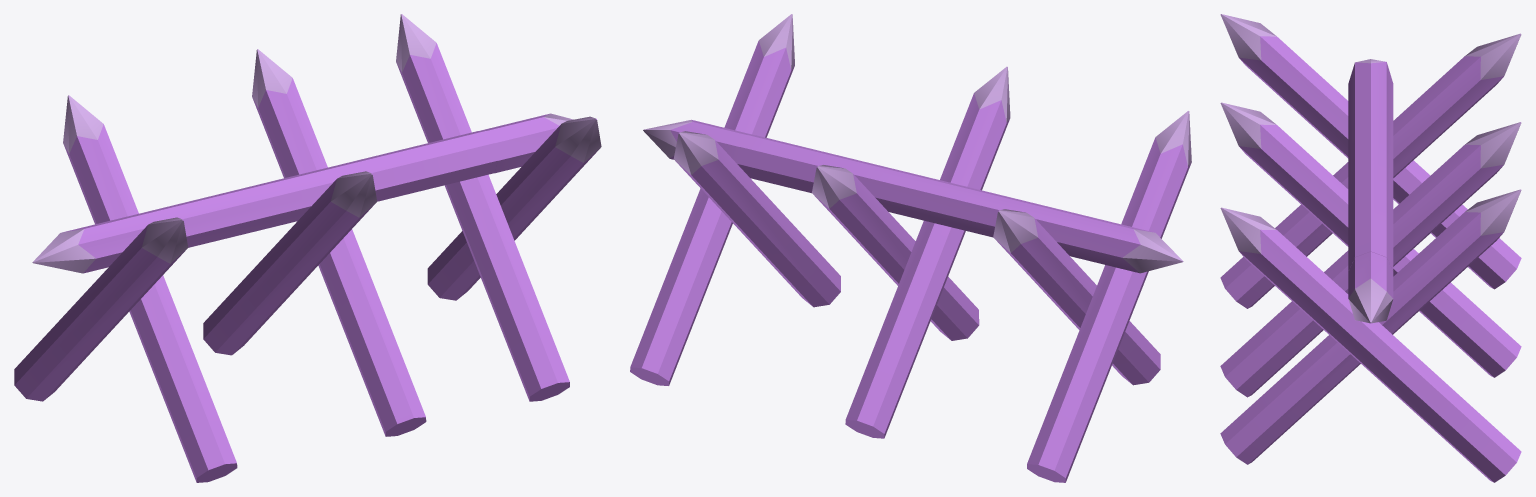
File: stake_3x3.fbx
3 renders of one model, left to right at view 1: azimuth 30°, elevation 25°; view 2: azimuth 150°, elevation 25°; view 3: azimuth 270°, elevation 25°, orthographic. The views are drawn at different scales.
Parts seen in each view (by area): view 1: polySurface1; view 2: polySurface1; view 3: polySurface1.
Boxes of the visible parts, x1=… form: polySurface1: x1=14, y1=14, x2=601, y2=482; polySurface1: x1=630, y1=14, x2=1191, y2=482; polySurface1: x1=1220, y1=14, x2=1521, y2=482.
Bounding box in the file's own units: 27.68 × 13.39 × 13.4.
